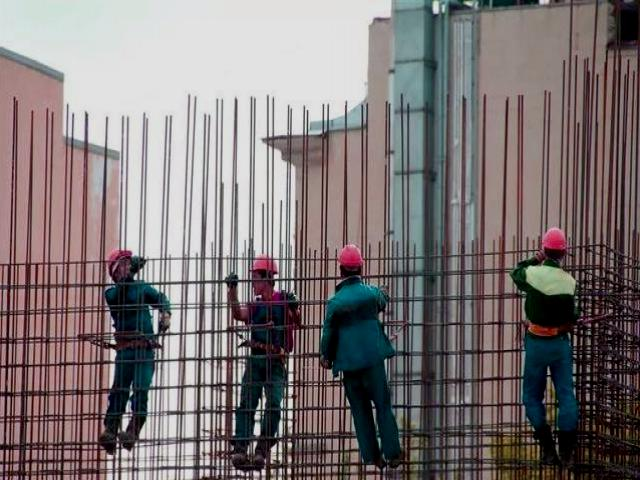Helmet: (107, 244, 137, 278), (540, 223, 570, 255), (248, 252, 282, 280), (336, 239, 366, 270)
